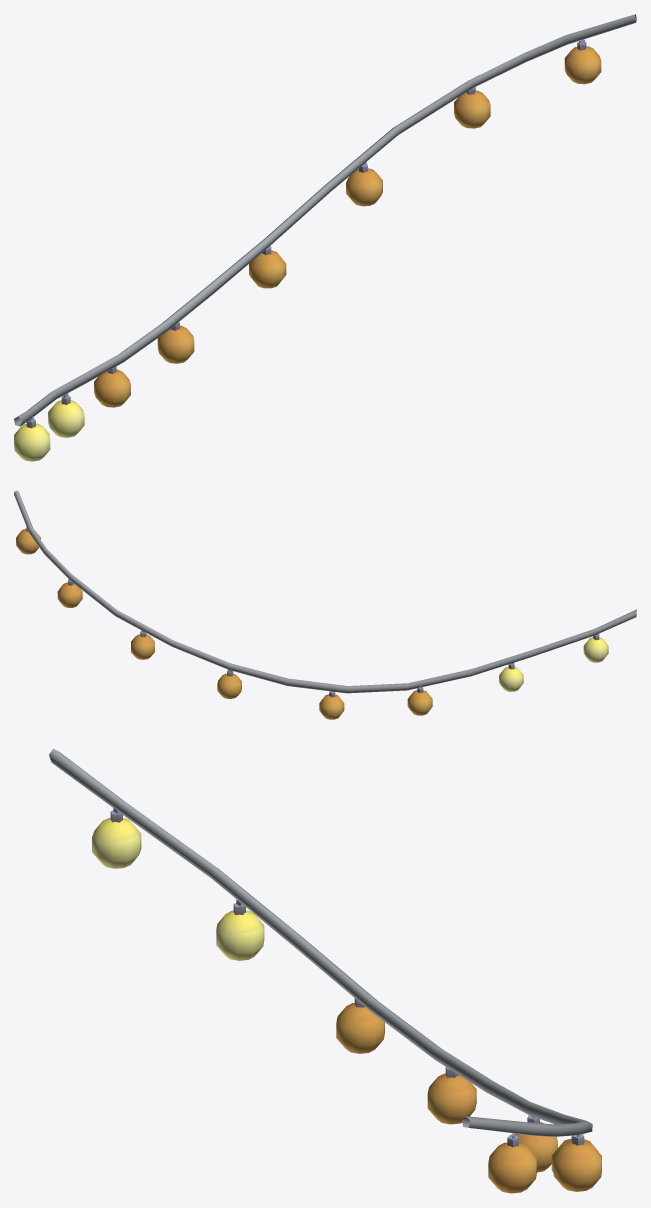
The model's file is pref_sm_beach_winter_lightflag_b_lv3.fbx.
The picture shows the model from 3 angles, top to bottom: view 1: azimuth 30°, elevation 25°; view 2: azimuth 150°, elevation 25°; view 3: azimuth 270°, elevation 25°; orthographic projection. The views are drawn at different scales.
Parts seen in each view (by area): view 1: pref_sm_beach_winter_lightflag_b_lv3; view 2: pref_sm_beach_winter_lightflag_b_lv3; view 3: pref_sm_beach_winter_lightflag_b_lv3.
Boxes of the visible parts, box(x1,y1,x2,y2) form: pref_sm_beach_winter_lightflag_b_lv3: box(14, 14, 636, 461); pref_sm_beach_winter_lightflag_b_lv3: box(14, 490, 636, 719); pref_sm_beach_winter_lightflag_b_lv3: box(49, 748, 601, 1193).
Bounding box in the file's own units: 4.55 × 1.3 × 2.09.
